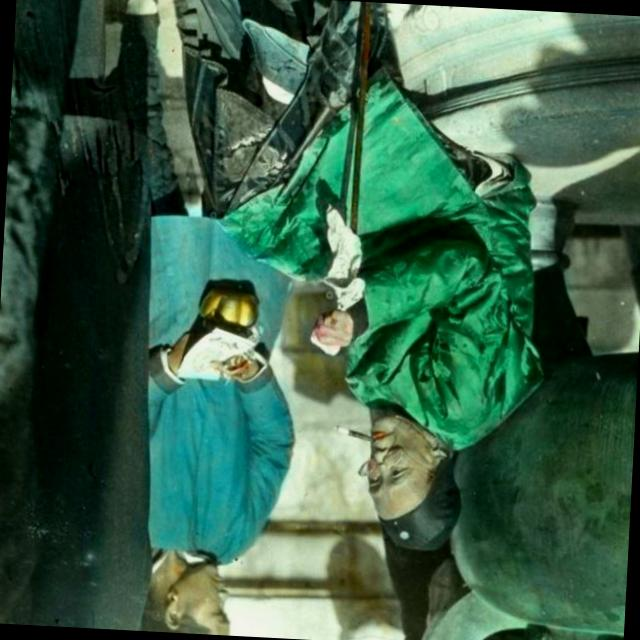smoke: (325, 403, 388, 458)
